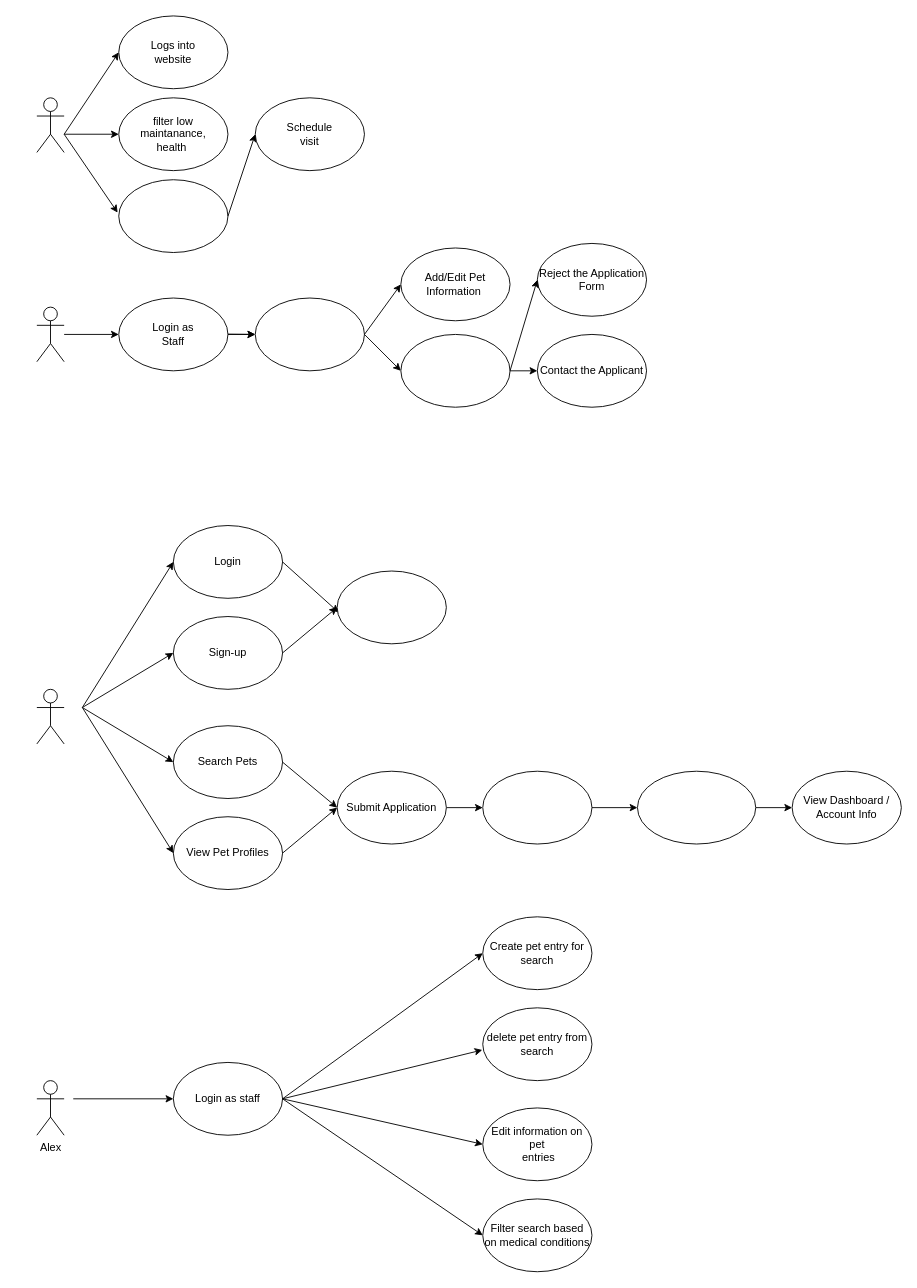
The diagram is 917 pixels wide and 1288 high, and some of its shapes have lost their labels. The shapes that lost their labels are listed below. From the top down, each one's box as (x1, y1, x2, y2) in pixels, then its label:
(36, 97, 64, 152): Dwayne
(118, 179, 228, 253): Save to favorites
(36, 306, 64, 362): Olivia(Staff)
(254, 297, 364, 371): Check Management Page
(400, 334, 510, 407): Check submitted Apllications and view their infomation
(336, 570, 446, 644): Favorite Pets
(36, 688, 64, 744): Lebron James
(482, 770, 592, 844): Schedule Appointment
(637, 770, 756, 844): Pet Recommendation
